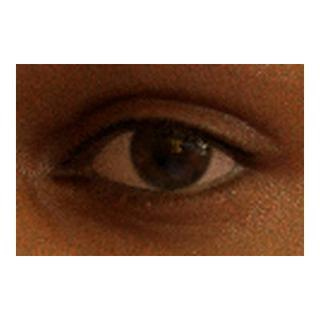pupil: (153, 132, 186, 165)
